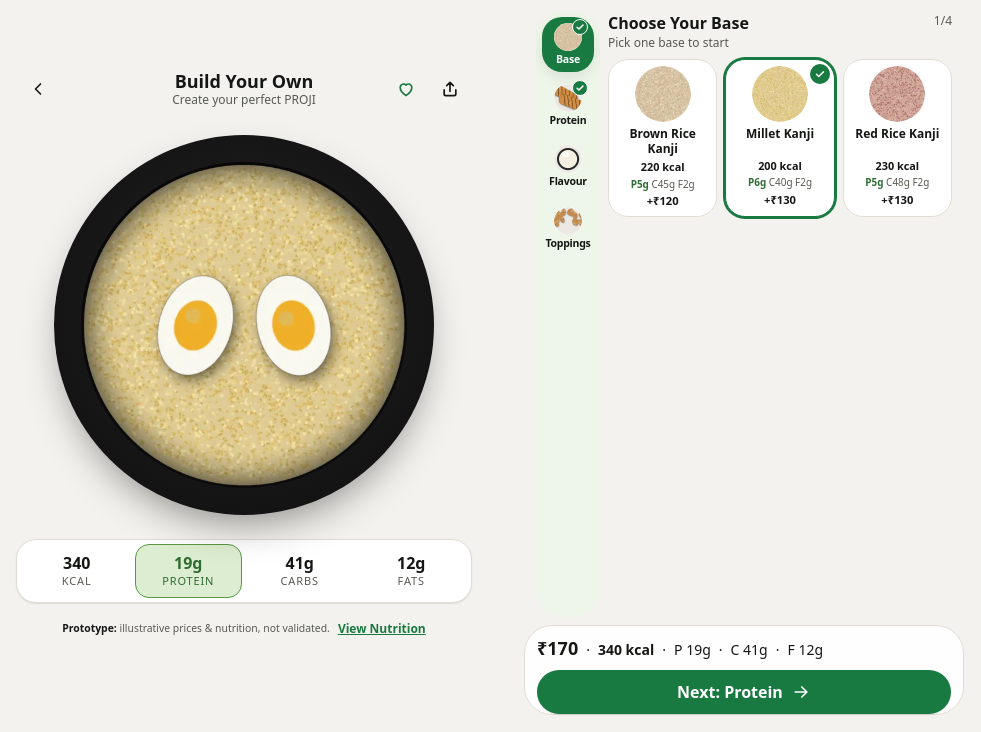
Test: CustomizePage › P-07 share copies a restorable link
Click the button named "share".
click(450, 89)  # box [428,67,472,111]
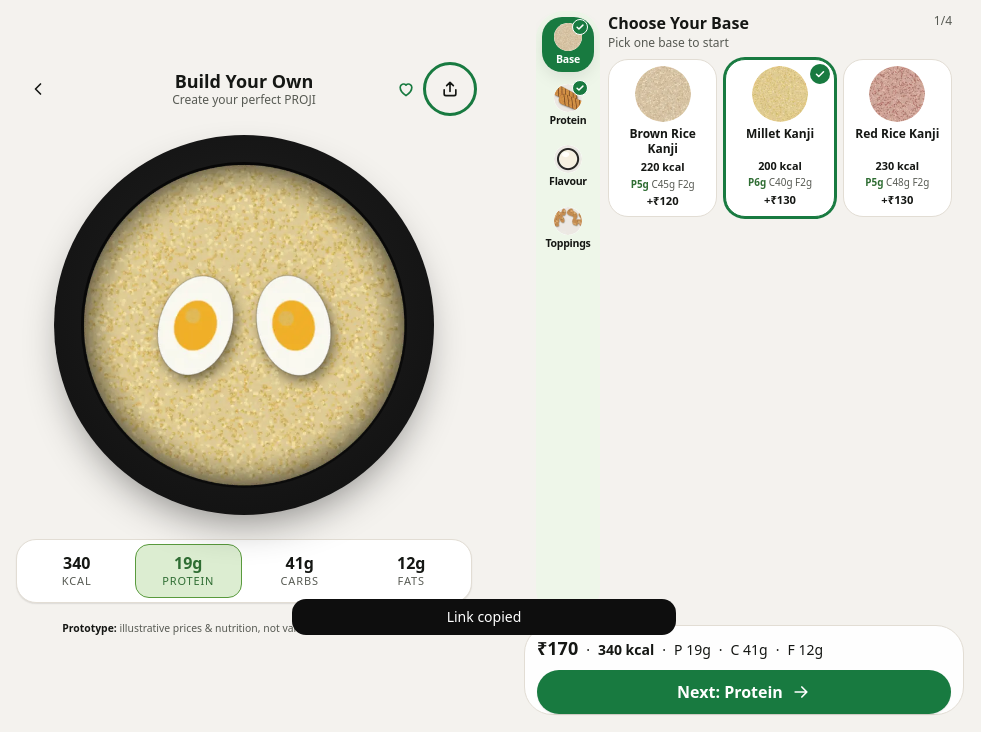
Result: the text "Link copied" is shown at [292,599,676,635]
